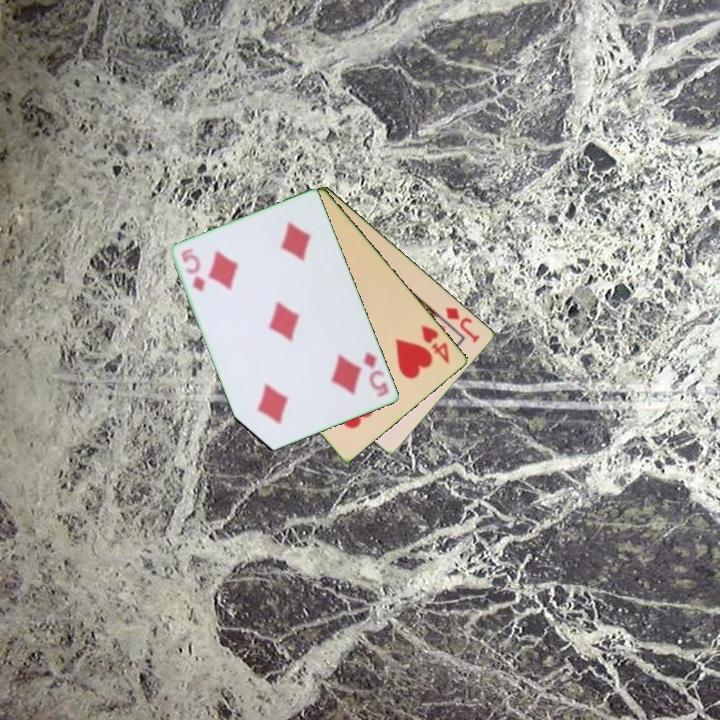4h: (418, 321, 453, 367)
5d: (360, 349, 392, 400), (178, 245, 209, 296)
Jd: (442, 303, 483, 346)
